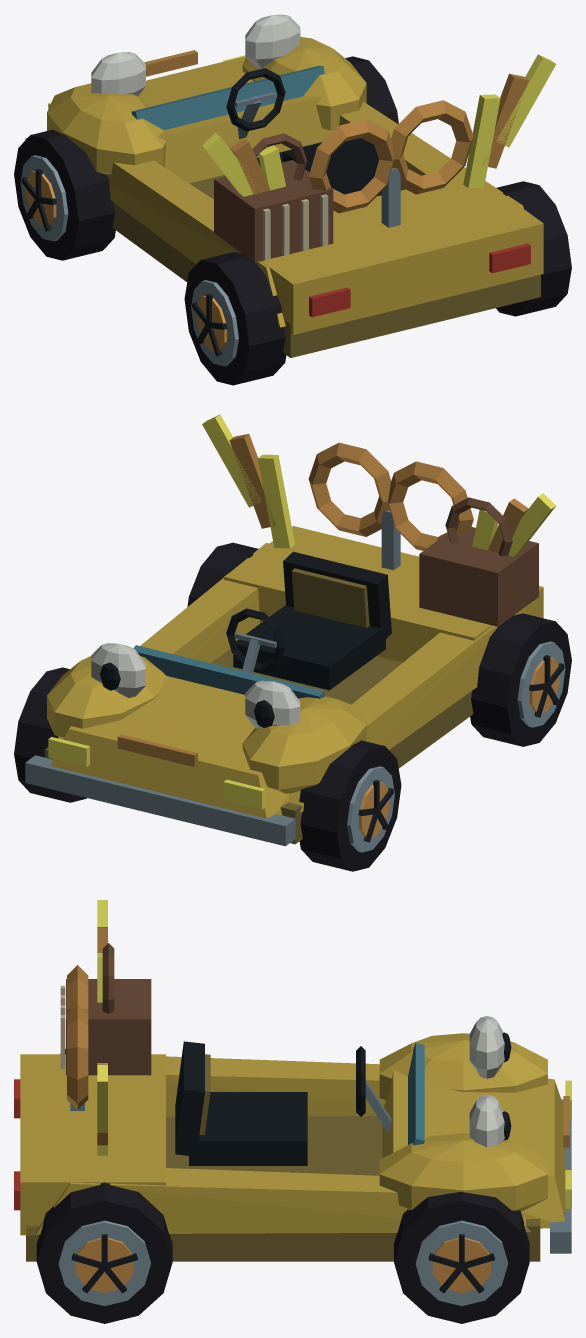
File: kart.glb
3 views of the same model, one above another, from view 1: azimuth 30°, elevation 25°; view 2: azimuth 150°, elevation 25°; view 3: azimuth 270°, elevation 25° (orthographic). The views are drawn at different scales.
Visible parts, largest first — view 1: identity-toy-car-toy-rounded-body-and-wind-up-key, wheel-rear-left, wheel-front-left, identity-toy-car-motif-basket, identity-toy-car-motif-feathers, identity-toy-car-driver-cockpit, identity-toy-car-motif-eyes, wheel-rear-right, wheel-front-right; view 2: identity-toy-car-toy-rounded-body-and-wind-up-key, identity-toy-car-driver-cockpit, wheel-rear-left, wheel-front-left, identity-toy-car-motif-basket, identity-toy-car-motif-feathers, identity-toy-car-motif-eyes, wheel-front-right, wheel-rear-right; view 3: identity-toy-car-toy-rounded-body-and-wind-up-key, wheel-rear-right, wheel-front-right, identity-toy-car-driver-cockpit, identity-toy-car-motif-basket, identity-toy-car-motif-eyes, identity-toy-car-motif-feathers.
Boxes of the visible parts, left/top/right/bottom form: identity-toy-car-toy-rounded-body-and-wind-up-key: left=25, top=37, right=543, bottom=357; wheel-rear-left: left=184, top=252, right=286, bottom=385; wheel-front-left: left=14, top=129, right=115, bottom=260; identity-toy-car-motif-basket: left=214, top=133, right=333, bottom=262; identity-toy-car-motif-feathers: left=202, top=54, right=556, bottom=196; identity-toy-car-driver-cockpit: left=226, top=68, right=381, bottom=196; identity-toy-car-motif-eyes: left=91, top=14, right=300, bottom=96; wheel-rear-right: left=496, top=181, right=571, bottom=316; wheel-front-right: left=345, top=56, right=398, bottom=124; identity-toy-car-toy-rounded-body-and-wind-up-key: left=25, top=442, right=543, bottom=846; identity-toy-car-driver-cockpit: left=226, top=551, right=391, bottom=690; wheel-rear-left: left=470, top=613, right=571, bottom=746; wheel-front-left: left=299, top=740, right=401, bottom=871; identity-toy-car-motif-basket: left=419, top=497, right=538, bottom=626; identity-toy-car-motif-feathers: left=202, top=414, right=555, bottom=556; identity-toy-car-motif-eyes: left=91, top=643, right=300, bottom=728; wheel-front-right: left=14, top=667, right=86, bottom=802; wheel-rear-right: left=187, top=542, right=258, bottom=606; identity-toy-car-toy-rounded-body-and-wind-up-key: left=14, top=965, right=571, bottom=1261; wheel-rear-right: left=36, top=1182, right=172, bottom=1323; wheel-front-right: left=394, top=1191, right=529, bottom=1323; identity-toy-car-driver-cockpit: left=175, top=1041, right=391, bottom=1165; identity-toy-car-motif-basket: left=60, top=943, right=151, bottom=1075; identity-toy-car-motif-eyes: left=469, top=1016, right=511, bottom=1147; identity-toy-car-motif-feathers: left=97, top=900, right=107, bottom=1155.
Bounding box in the file's own units: 2.18 × 1.47 × 2.88.
